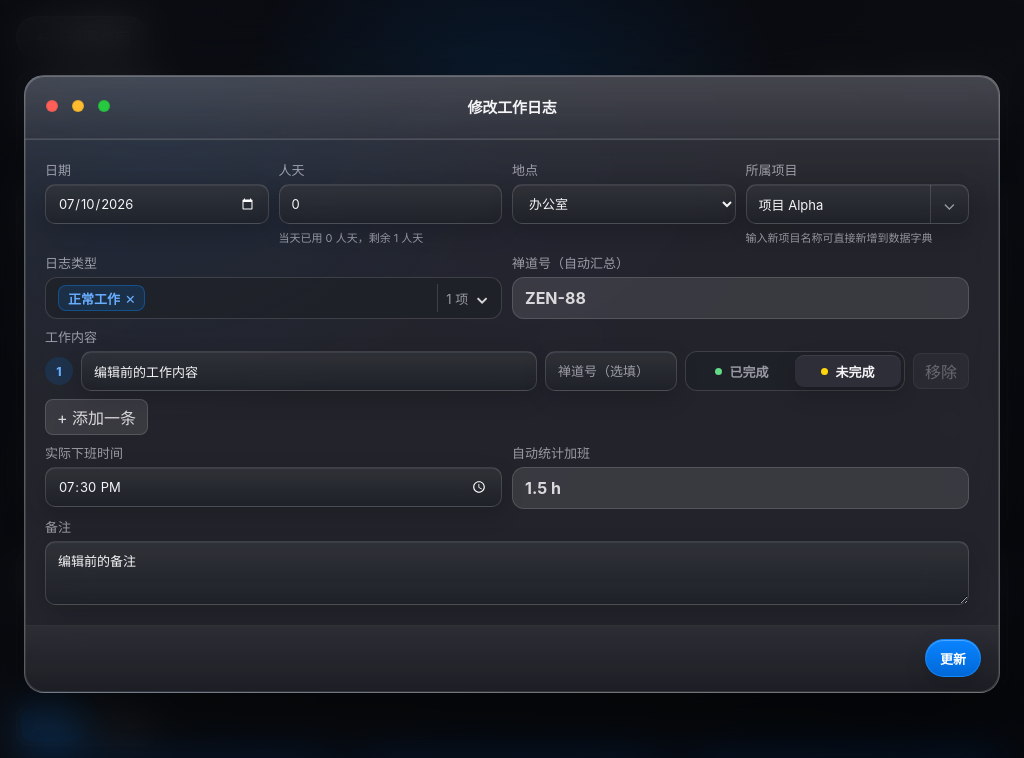
Test: WorkLog MacDialog integration › closes the edit dialog from the left window close control
The image size is (1024, 758).
What coordinates should you click on to do the following:
click the button with class "close"
I would click on:
 (52, 106)
Its box is [40,94,64,118].
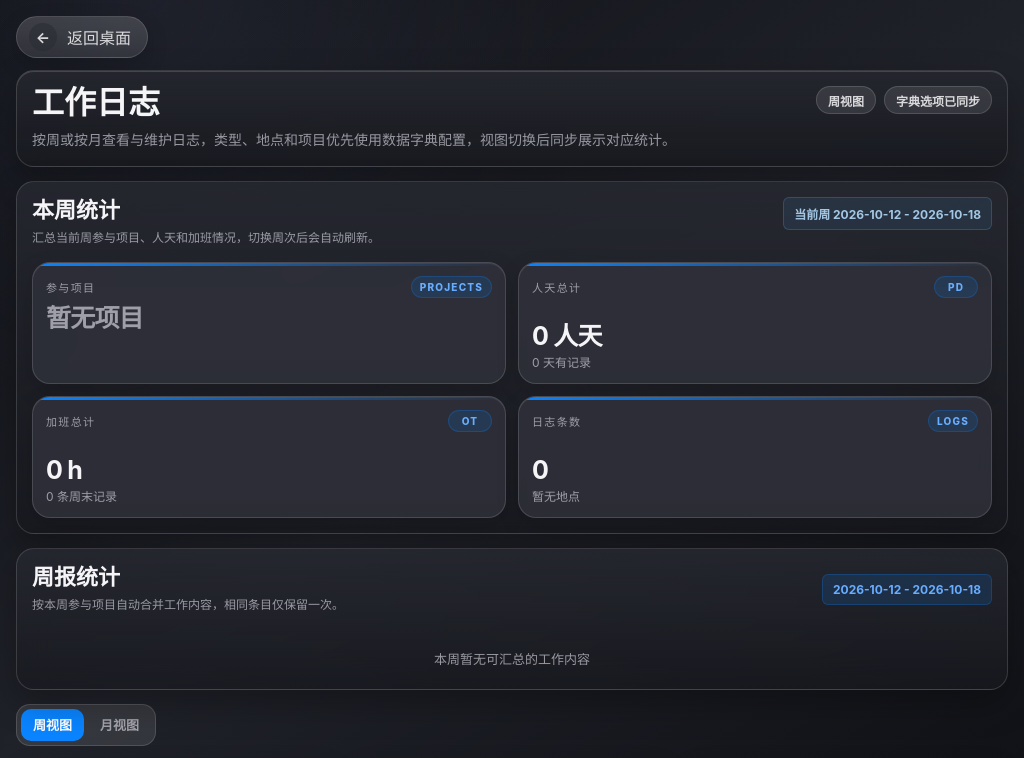
Now the dialog with class "work-log-dialog" is gone
